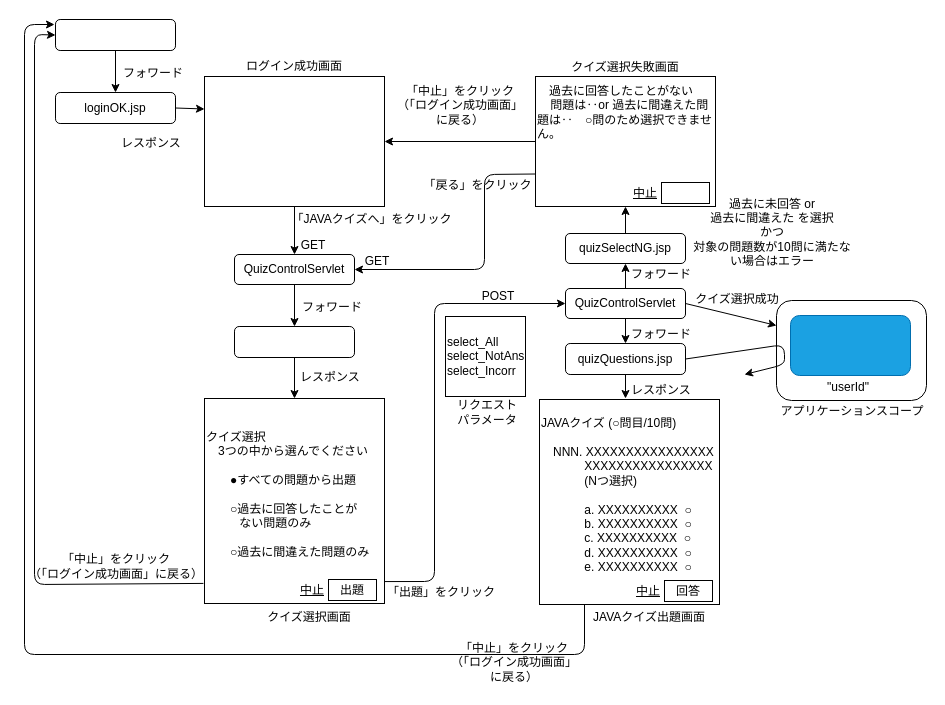
Some shapes in this 945 by 705 pixel diagram are drawn without their labels. Here are the shapes that lost their labels. From the top down, the centre of each, then its label:
point (115, 34): LoginServlet
point (294, 141): ログイン成功 ようこそ{ユーザーID}さん JAVAクイズ(10問)へ トップへ
point (685, 193): 戻る
point (294, 342): quizSelect.jsp
point (850, 345): ユーザーID
